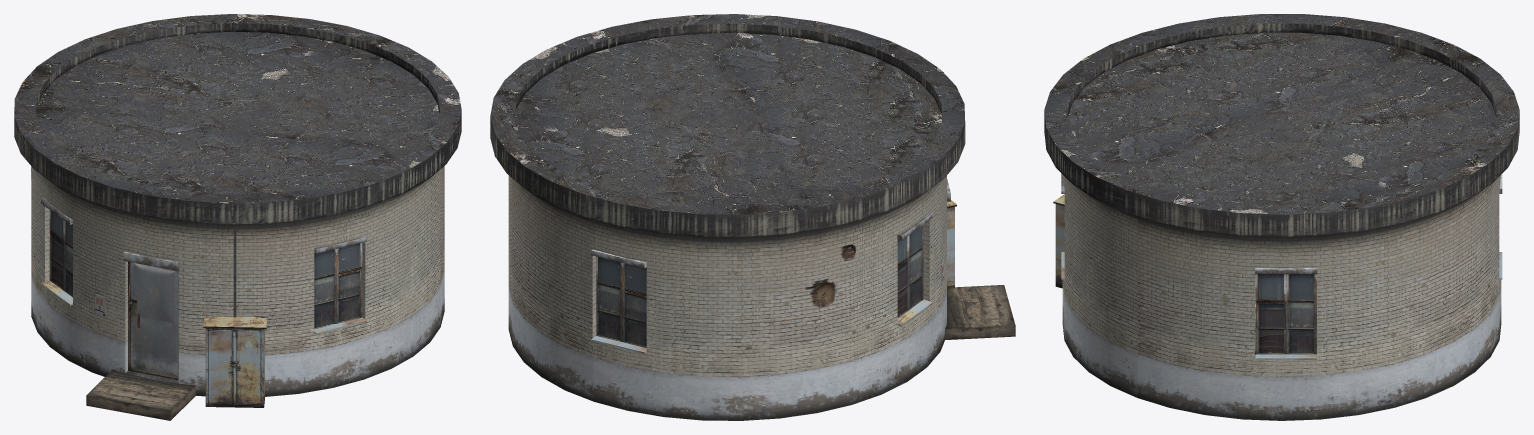
File: Sewerage pumping2.fbx
3 views of the same model, side by side, from view 1: azimuth 30°, elevation 25°; view 2: azimuth 150°, elevation 25°; view 3: azimuth 270°, elevation 25° (orthographic). The views are drawn at different scales.
Visible parts, largest first — view 1: Object001; view 2: Object001; view 3: Object001.
Part boxes in pixels (x1,y1,x2,y2): Object001: (14,14,461,420); Object001: (490,14,1015,420); Object001: (1044,14,1519,420).
Bounding box in the file's own units: 7.21 × 3.43 × 6.9.
Materials: 1 (1 with a texture image).
